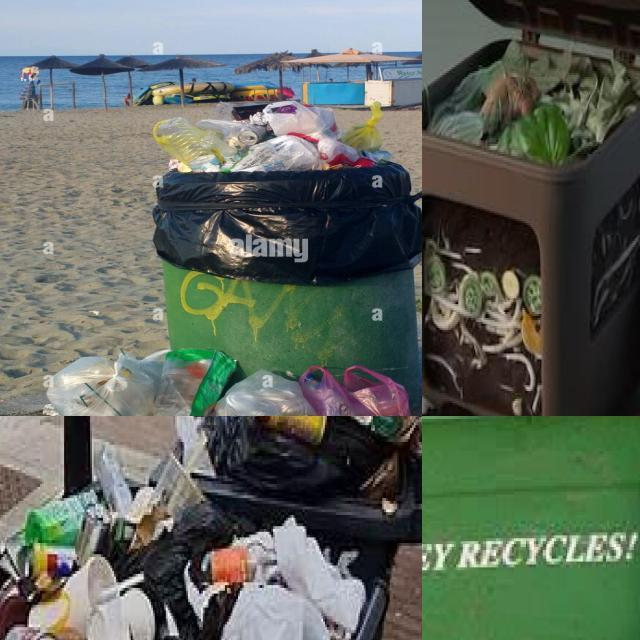Disposable: (28, 555, 117, 640), (88, 589, 155, 640)
Garbage: (0, 416, 422, 640), (427, 39, 640, 165), (44, 349, 411, 416), (153, 102, 391, 172)
Plastic_Bag: (200, 416, 393, 499), (138, 502, 252, 640), (46, 356, 155, 416), (153, 349, 236, 416), (300, 366, 411, 416), (206, 370, 317, 416), (232, 135, 323, 171), (264, 100, 339, 138), (341, 102, 383, 152), (196, 120, 242, 163), (317, 138, 361, 165), (232, 104, 268, 120)
Plastic_Straw: (117, 573, 144, 592)
Plastic_bottle: (25, 490, 98, 547), (202, 532, 279, 584), (153, 117, 224, 172)
can: (250, 416, 326, 444), (236, 124, 266, 148)
